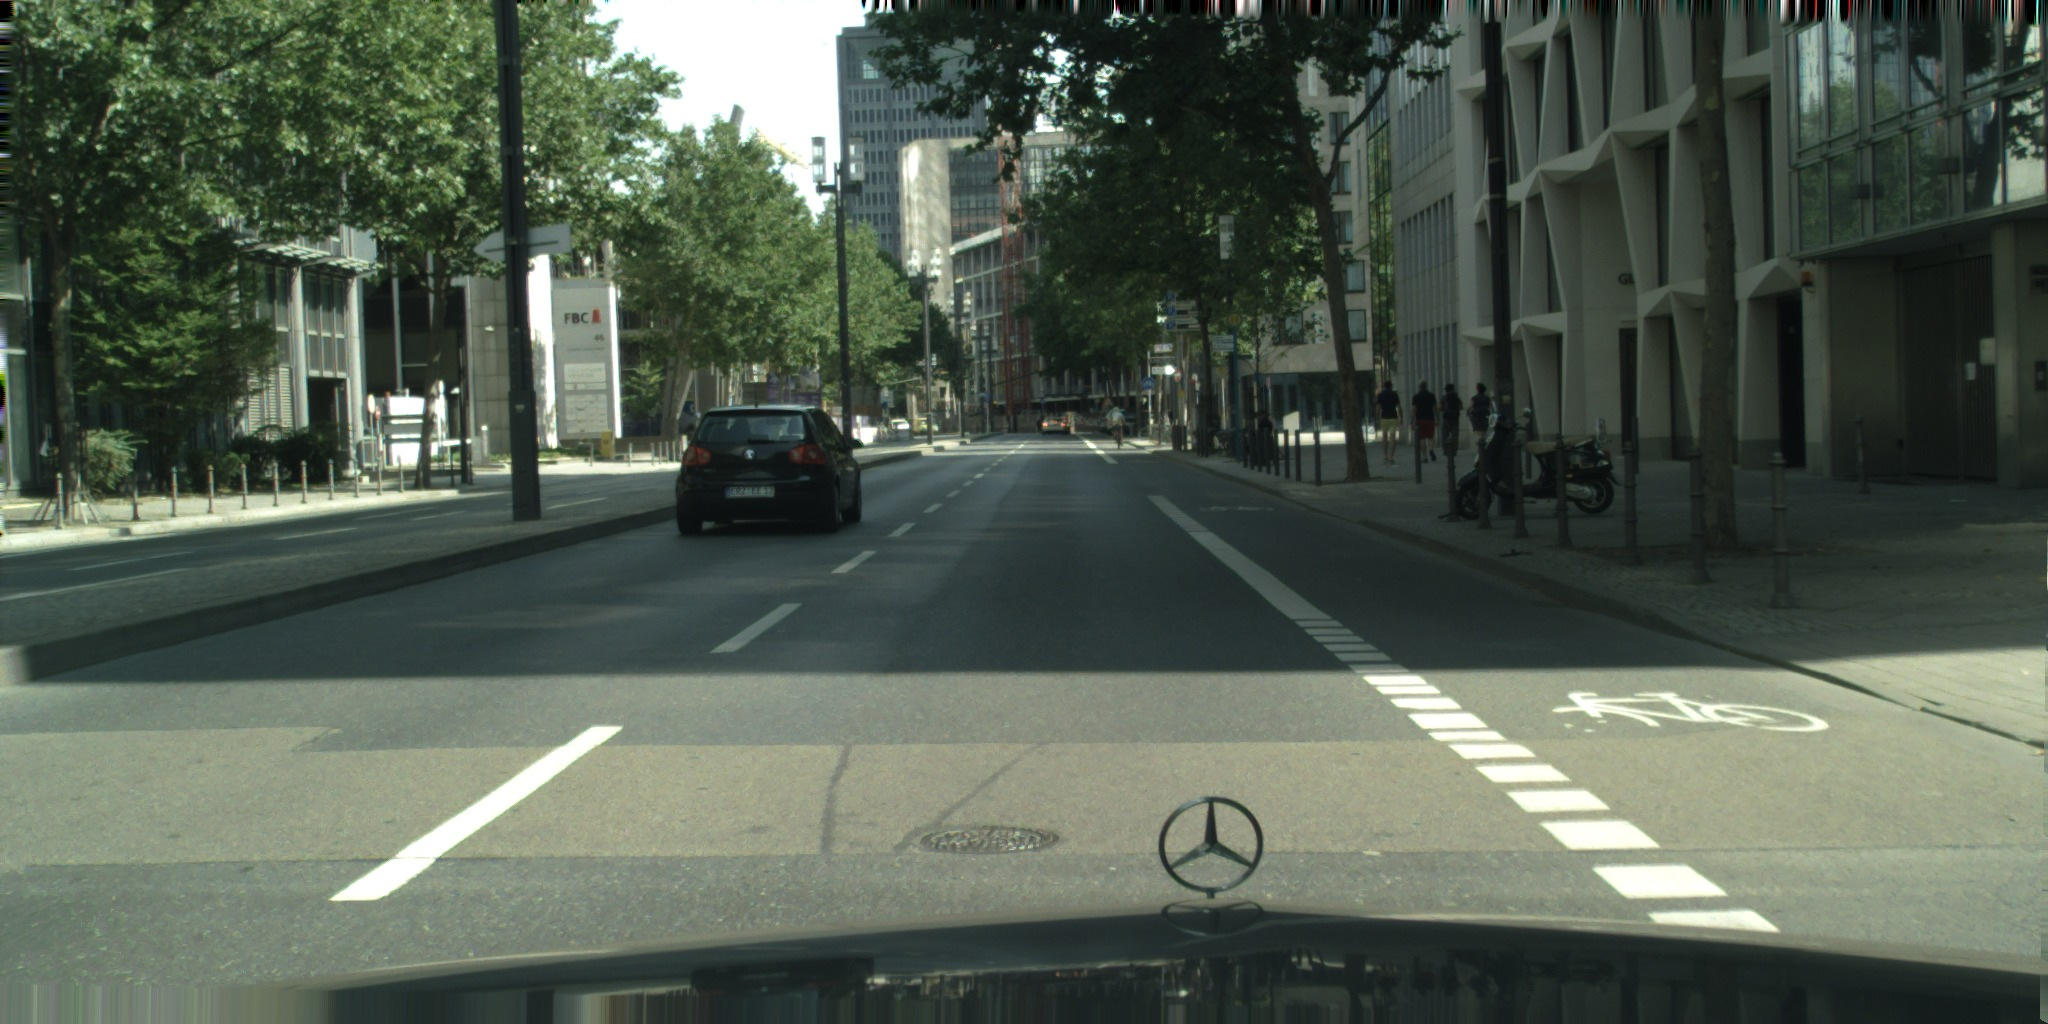bicycle: (1116, 417, 1122, 451)
car: (674, 404, 864, 536), (1040, 416, 1066, 435)
motorcycle: (1452, 405, 1622, 521)
person: (1374, 379, 1404, 465), (1410, 378, 1441, 464), (1465, 381, 1494, 451), (1438, 382, 1464, 456)
rider: (1109, 405, 1126, 446)
